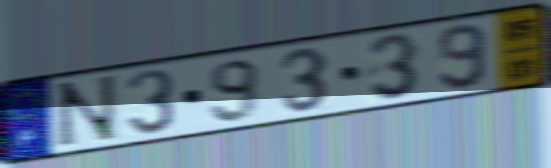3: (360, 30, 425, 104), (279, 44, 333, 115), (124, 68, 178, 137)
9: (435, 22, 488, 92), (207, 56, 262, 123)
N: (52, 72, 122, 152)
